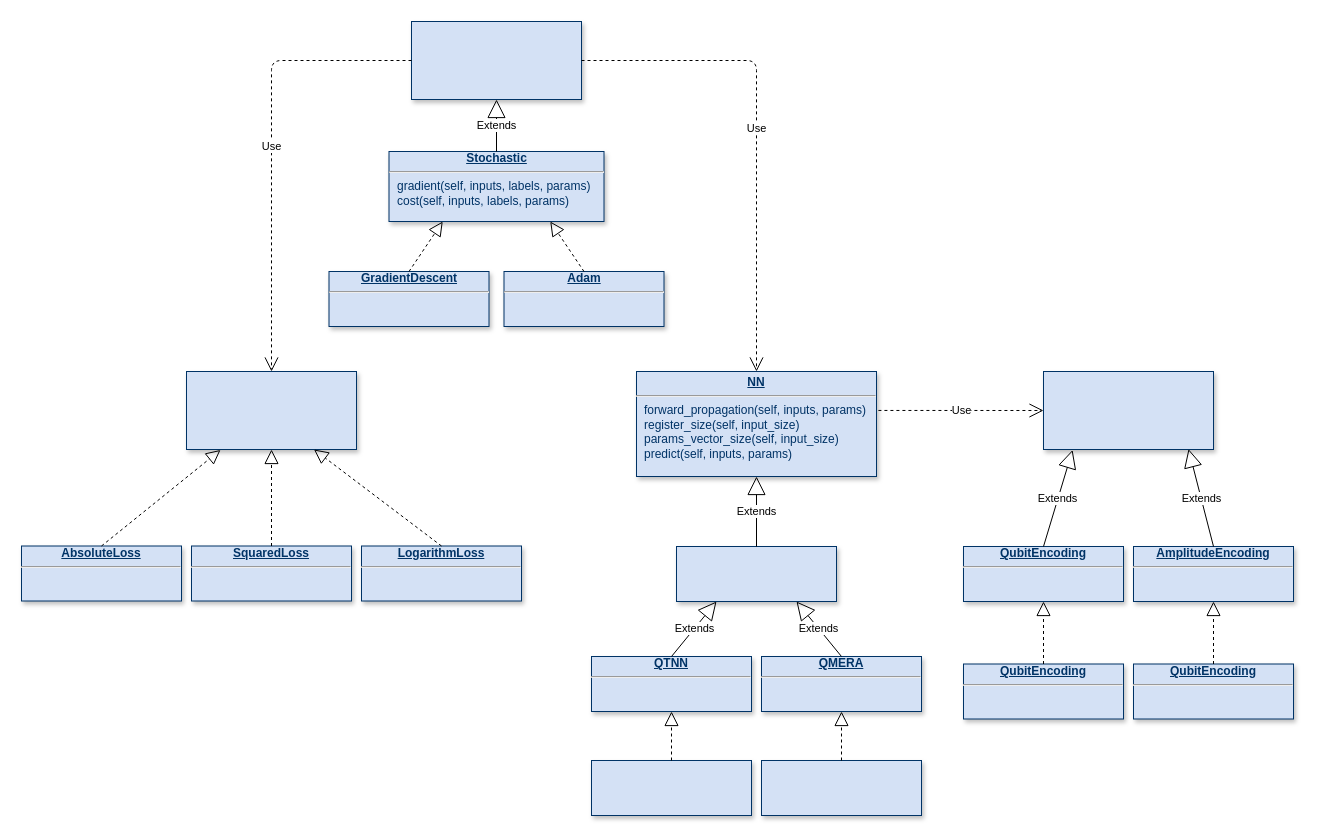
The diagram is 1317 pixels wide and 840 high, and some of its shapes have lost their labels. Each missing label, with the centre of its shape:
"IBMQ_QMERA" goes at point 842,789.
"IBMQ_QTNN" goes at point 672,789.
"Loss evaluate(self, l, p)" goes at point 272,411.
"OptimizationModel fit(self, inputs, labels)" goes at point 497,61.
"QNN" goes at point 757,575.
"QuantumEncoding register_size(self, input_size) enconde(self, circuit, q, data)" goes at point 1129,411.
